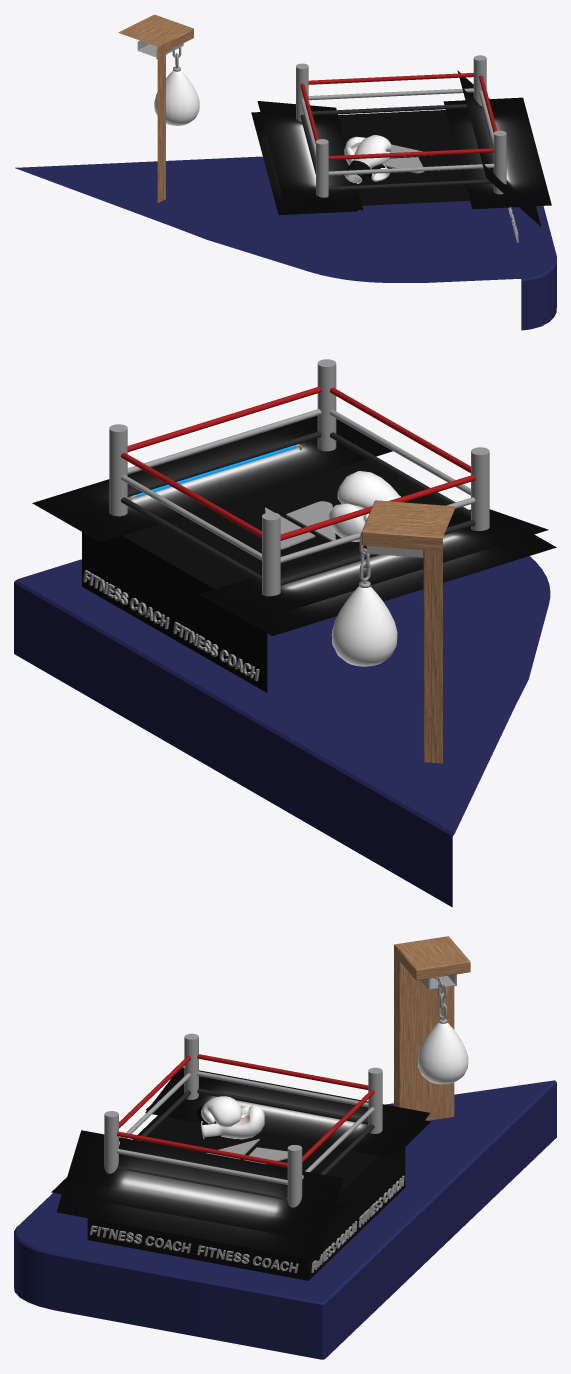
File: ring-transformed.glb
3 renders of one model, top to bottom at view 1: azimuth 30°, elevation 25°; view 2: azimuth 150°, elevation 25°; view 3: azimuth 270°, elevation 25°, orthographic. The views are drawn at different scales.
Visible parts, largest first — view 1: ringBase, ringNeonBlueGlow, ringNeonRedGlow, ringFloor, ringMetal, ringPunchingStructure, ringRopeRed, ringRopeBlack, ringPunchingBagBall, ringGlovesOutside2; view 2: ringBase, ringFloor, ringNeonRedGlow, ringNeonBlueGlow, ringMetal, ringPunchingStructure, ringRopeRed, ringRopeBlack, ringPunchingBagBall, ringGlovesOutside2, ringText.003, ringText.004 (+1 smaller); view 3: ringBase, ringNeonBlueGlow, ringFloor, ringNeonRedGlow, ringPunchingStructure, ringMetal, ringRopeRed, ringPunchingBagBall, ringRopeBlack, ringGlovesOutside1, ringGlovesOutside2, ringText.001 (+1 smaller).
Part boxes in pixels (x1,y1,x2,y2): ringBase: [15, 156, 556, 330]; ringNeonBlueGlow: [443, 70, 551, 226]; ringNeonRedGlow: [251, 101, 363, 215]; ringFloor: [338, 110, 469, 205]; ringMetal: [296, 55, 506, 197]; ringPunchingStructure: [118, 14, 193, 202]; ringRopeRed: [300, 73, 497, 160]; ringRopeBlack: [300, 104, 493, 190]; ringPunchingBagBall: [154, 70, 199, 125]; ringGlovesOutside2: [344, 135, 391, 183]; ringBase: [14, 556, 550, 907]; ringFloor: [82, 459, 460, 692]; ringNeonRedGlow: [197, 509, 556, 635]; ringNeonBlueGlow: [32, 416, 392, 542]; ringMetal: [109, 359, 489, 596]; ringPunchingStructure: [361, 500, 455, 763]; ringRopeRed: [121, 386, 475, 540]; ringRopeBlack: [121, 431, 475, 585]; ringPunchingBagBall: [331, 586, 397, 666]; ringGlovesOutside2: [337, 471, 400, 508]; ringText.003: [83, 570, 169, 629]; ringText.004: [173, 622, 259, 681]; ringBase: [14, 1080, 556, 1359]; ringNeonBlueGlow: [51, 1130, 348, 1260]; ringFloor: [87, 1115, 405, 1280]; ringNeonRedGlow: [145, 1067, 431, 1158]; ringPunchingStructure: [394, 936, 470, 1120]; ringMetal: [104, 1033, 382, 1207]; ringRopeRed: [117, 1054, 374, 1167]; ringPunchingBagBall: [417, 1022, 468, 1084]; ringRopeBlack: [117, 1088, 374, 1200]; ringGlovesOutside1: [201, 1104, 264, 1139]; ringGlovesOutside2: [201, 1096, 242, 1127]; ringText.001: [89, 1225, 191, 1253].
Bounding box in the file's own units: 131 × 63.26 × 135.
Materials: 14 (3 with a texture image).
